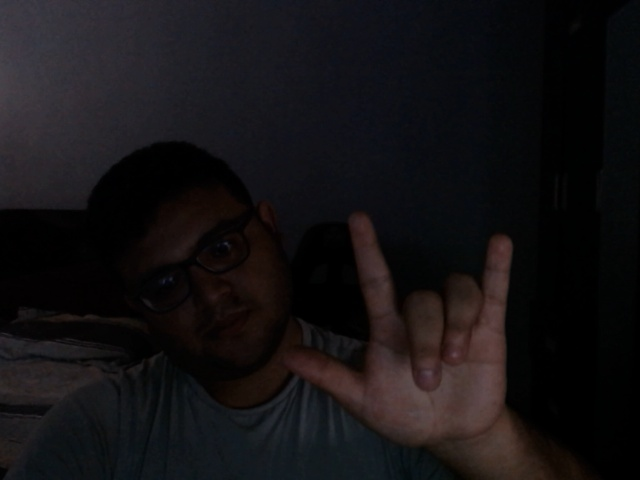I love you: (284, 208, 519, 452)
